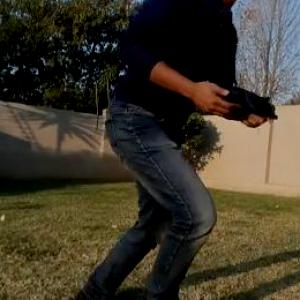follow: (68, 0, 283, 299)
